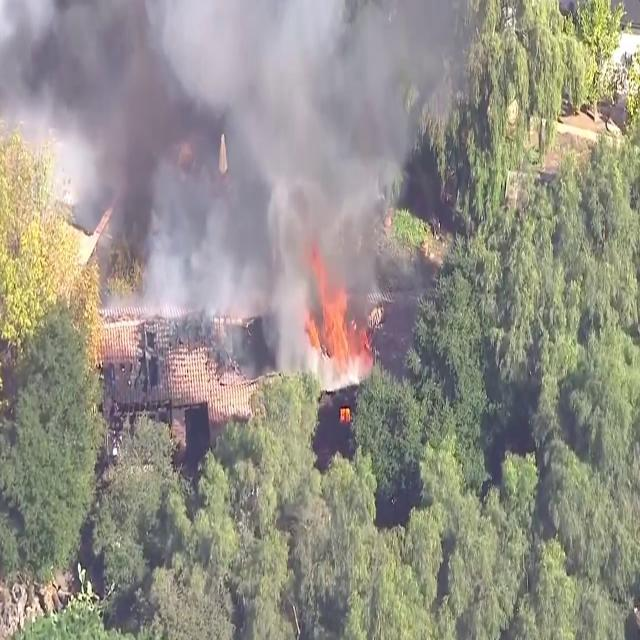Fire: (302, 262, 372, 382)
Smoke: (1, 0, 416, 353)
